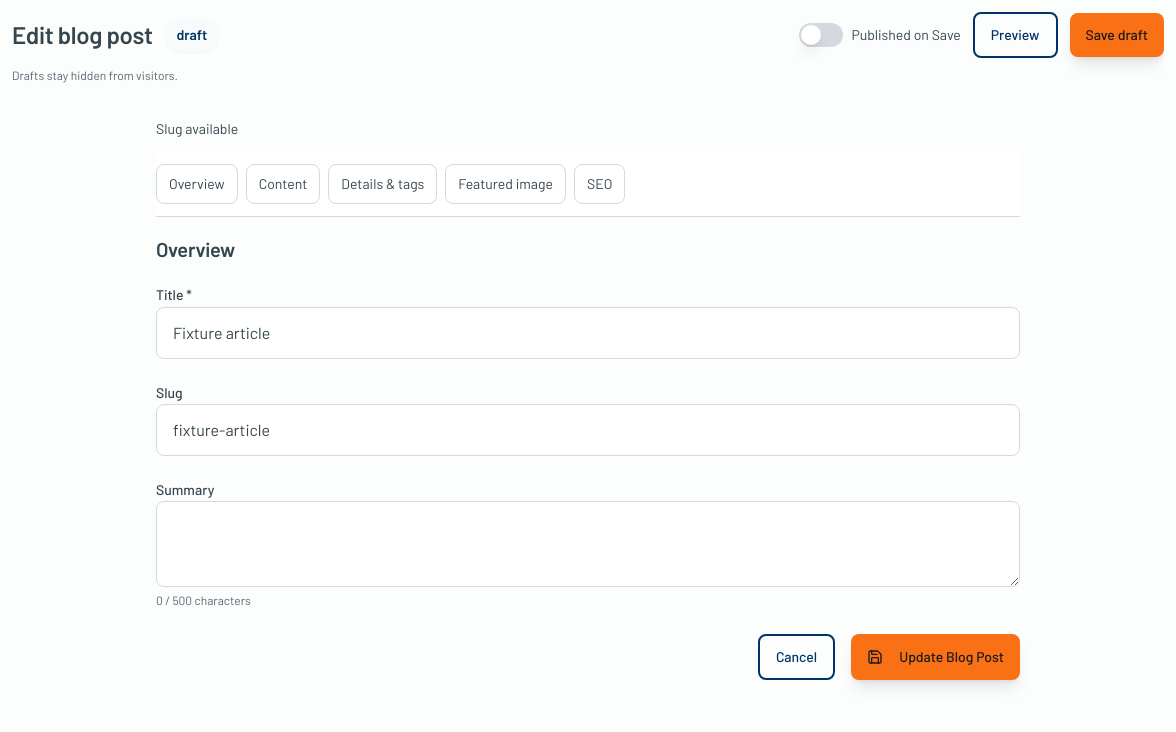
Test: blog form save contract › saves the existing sector, attribution and pin flag and normalizes an empty read time
Earlier steps of the test are not shown.
Later steps or results of the test are not shown.
Replace the text in the field labelled "Slug" with " Façade / Repair?! " at (588, 430), box [156,404,1020,456]
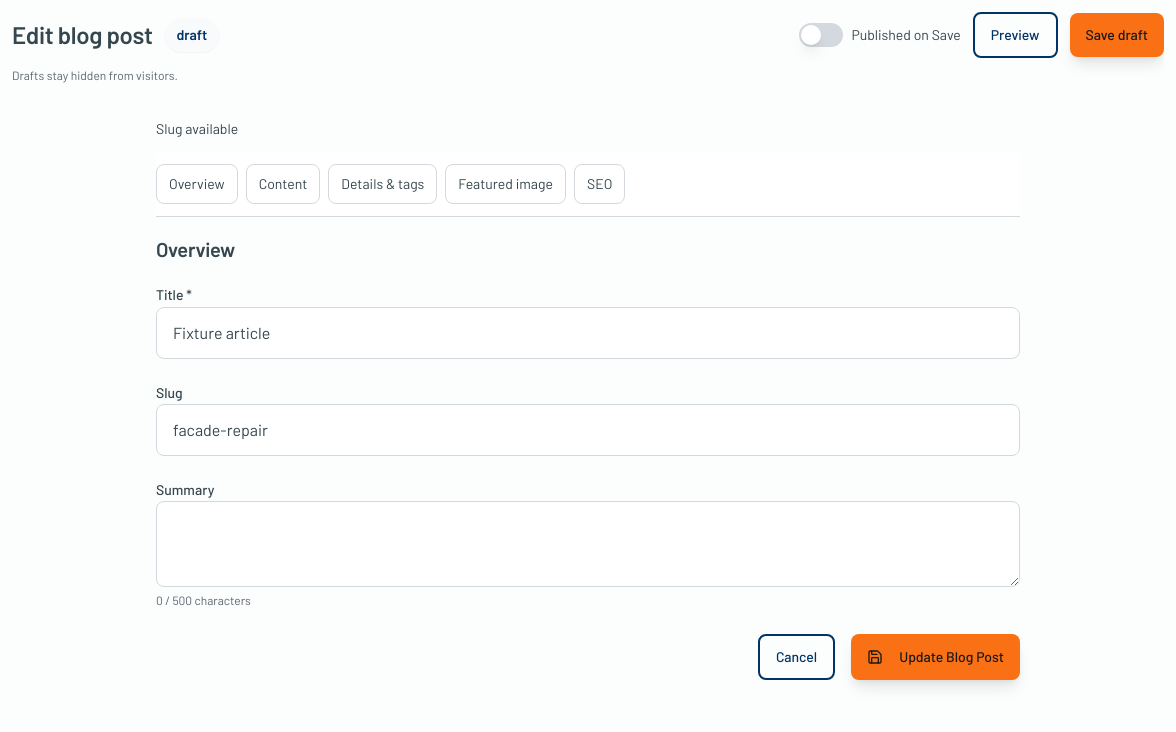
Expected: the field labelled "Slug" holds "facade-repair", [156,404,1020,456]
